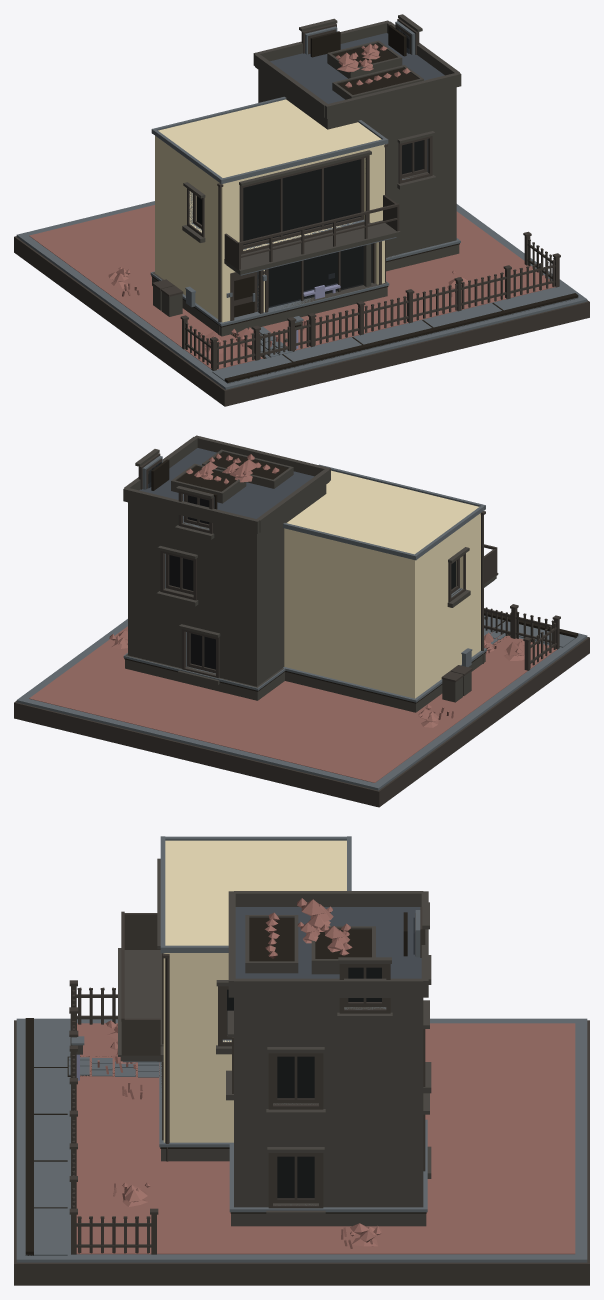
The model's file is house-modern-pavilion.glb.
3 views of the same model, one above another, from view 1: azimuth 30°, elevation 25°; view 2: azimuth 150°, elevation 25°; view 3: azimuth 270°, elevation 25° (orthographic). The views are drawn at different scales.
Visible parts, largest first — view 1: body-1, body-4, body-0, body-7, body-2, body-3, dd-opening:street-glass-u:6, dd-opening:street-glass-g:6, body-6, body-5; view 2: body-0, body-1, body-7, body-4, body-2, body-3, body-6, body-5; view 3: body-7, body-1, body-4, body-2, body-0, body-3, body-6, body-5.
Part boxes in pixels (x1=…): body-1: x1=152, y1=14, x2=461, y2=342; body-4: x1=14, y1=18, x2=589, y2=406; body-0: x1=155, y1=99, x2=384, y2=322; body-7: x1=29, y1=44, x2=555, y2=369; body-2: x1=16, y1=21, x2=587, y2=389; body-3: x1=151, y1=25, x2=578, y2=382; dd-opening:street-glass-u:6: x1=243, y1=159, x2=360, y2=245; dd-opening:street-glass-g:6: x1=268, y1=243, x2=372, y2=307; body-6: x1=270, y1=33, x2=444, y2=103; body-5: x1=196, y1=27, x2=423, y2=224; body-0: x1=284, y1=470, x2=480, y2=698; body-1: x1=123, y1=435, x2=498, y2=712; body-7: x1=29, y1=453, x2=556, y2=782; body-4: x1=14, y1=453, x2=589, y2=807; body-2: x1=16, y1=456, x2=587, y2=790; body-3: x1=124, y1=452, x2=578, y2=703; body-6: x1=139, y1=448, x2=314, y2=518; body-5: x1=148, y1=462, x2=456, y2=669; body-7: x1=76, y1=898, x2=575, y2=1254; body-1: x1=70, y1=858, x2=431, y2=1226; body-4: x1=14, y1=907, x2=589, y2=1285; body-2: x1=16, y1=836, x2=587, y2=1262; body-0: x1=163, y1=840, x2=346, y2=1142; body-3: x1=25, y1=912, x2=426, y2=1255; body-6: x1=235, y1=907, x2=421, y2=978; body-5: x1=227, y1=917, x2=414, y2=1198.
Size of the model in its own units: 15 by 8.62 by 15.
